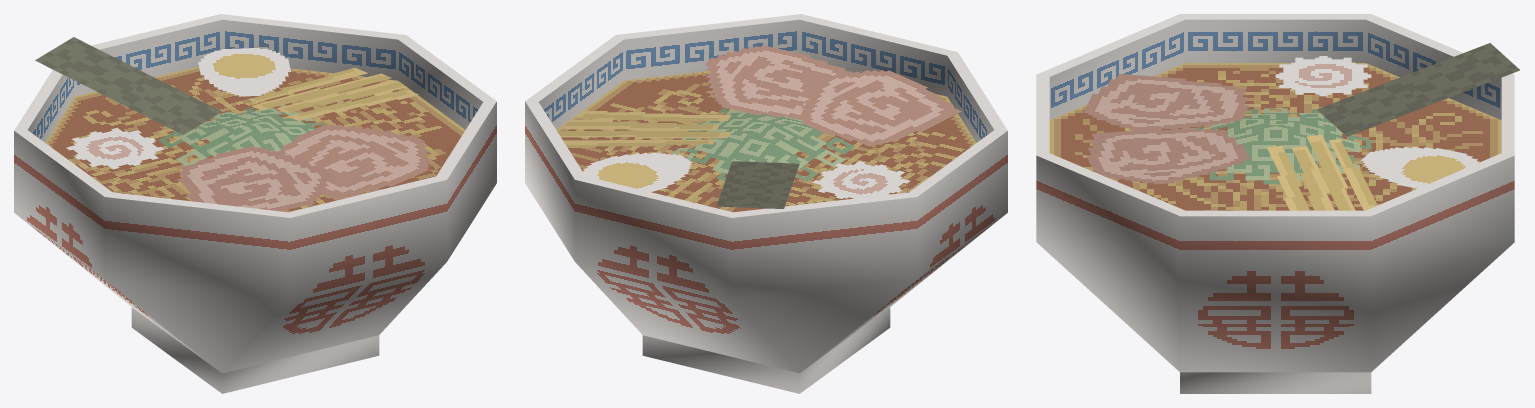
File: 03b2_Ramen.glb
3 views of the same model, side by side, from view 1: azimuth 30°, elevation 25°; view 2: azimuth 150°, elevation 25°; view 3: azimuth 270°, elevation 25° (orthographic). The views are drawn at different scales.
Visible parts, largest first — view 1: part_0; view 2: part_0; view 3: part_0.
Boxes of the visible parts, x1,y1,x2,y2 form: part_0: (14, 14, 496, 393); part_0: (525, 14, 1007, 393); part_0: (1036, 14, 1519, 393).
Size of the model in its own units: 0.235 by 0.1351 by 0.2378.
Materials: 1 (1 with a texture image).
